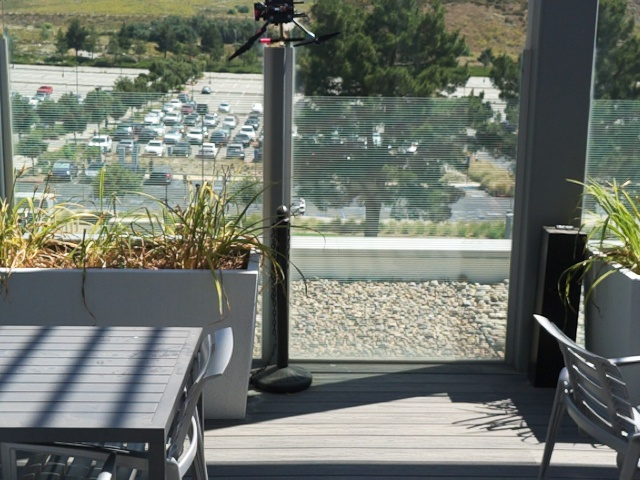quadcopter: (222, 1, 341, 65)
